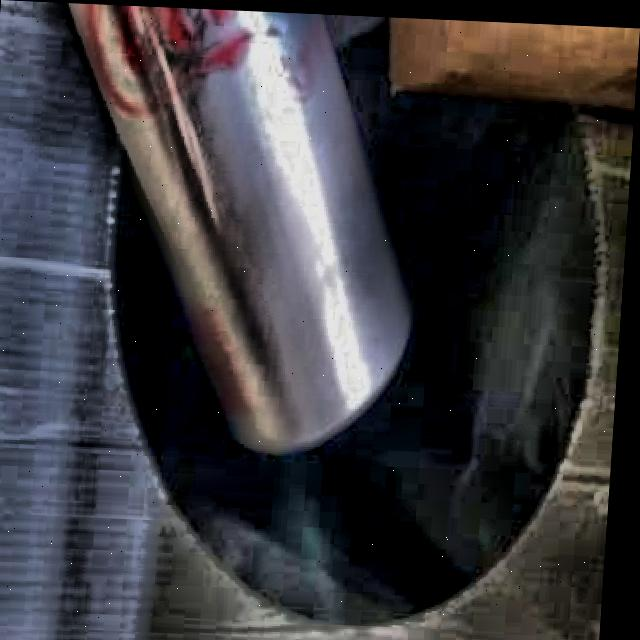metal: (66, 2, 411, 449)
